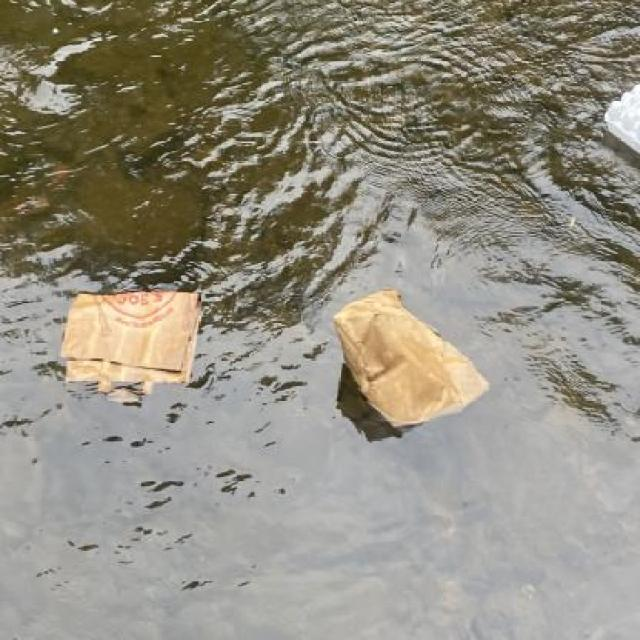Paper: (335, 287, 490, 435), (60, 288, 203, 406)
Plastic: (601, 81, 640, 160)
